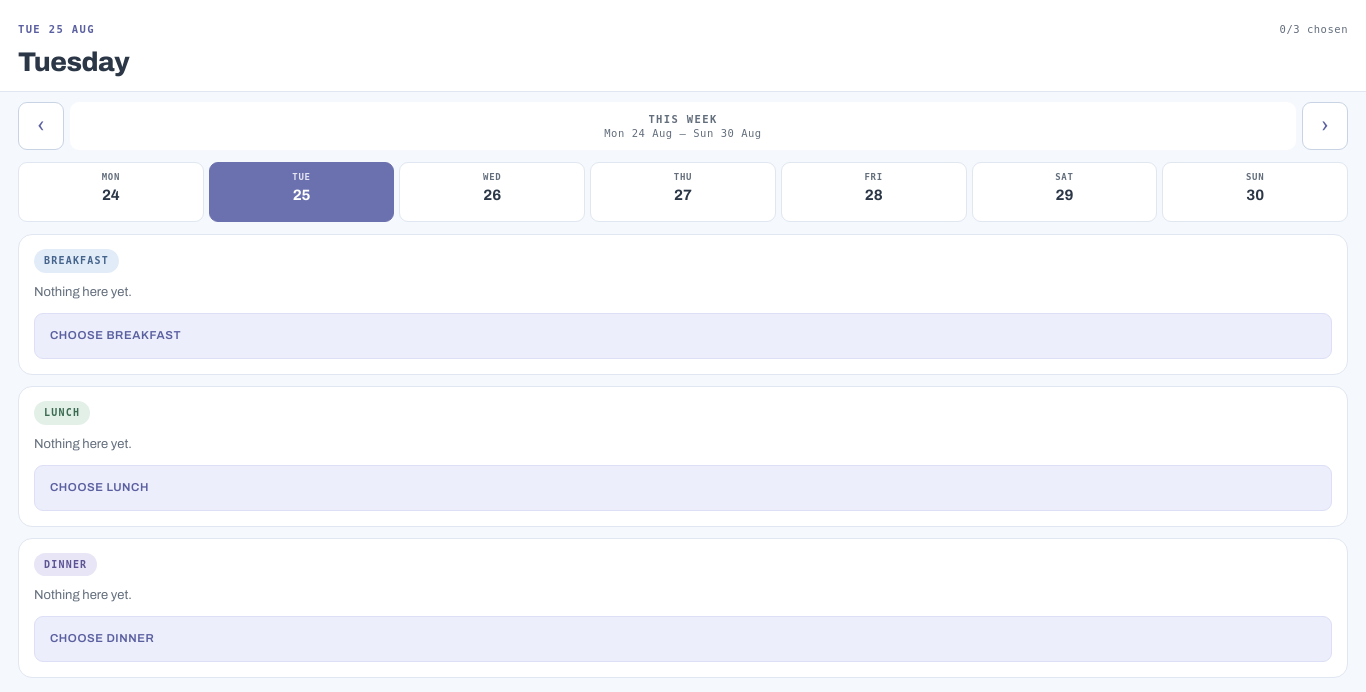
Test: Plan › puts the recipes suited to the slot first, and the rest after
Click the button "Choose breakfast" at {"x": 116, "y": 335}, box [34,313,1332,359]
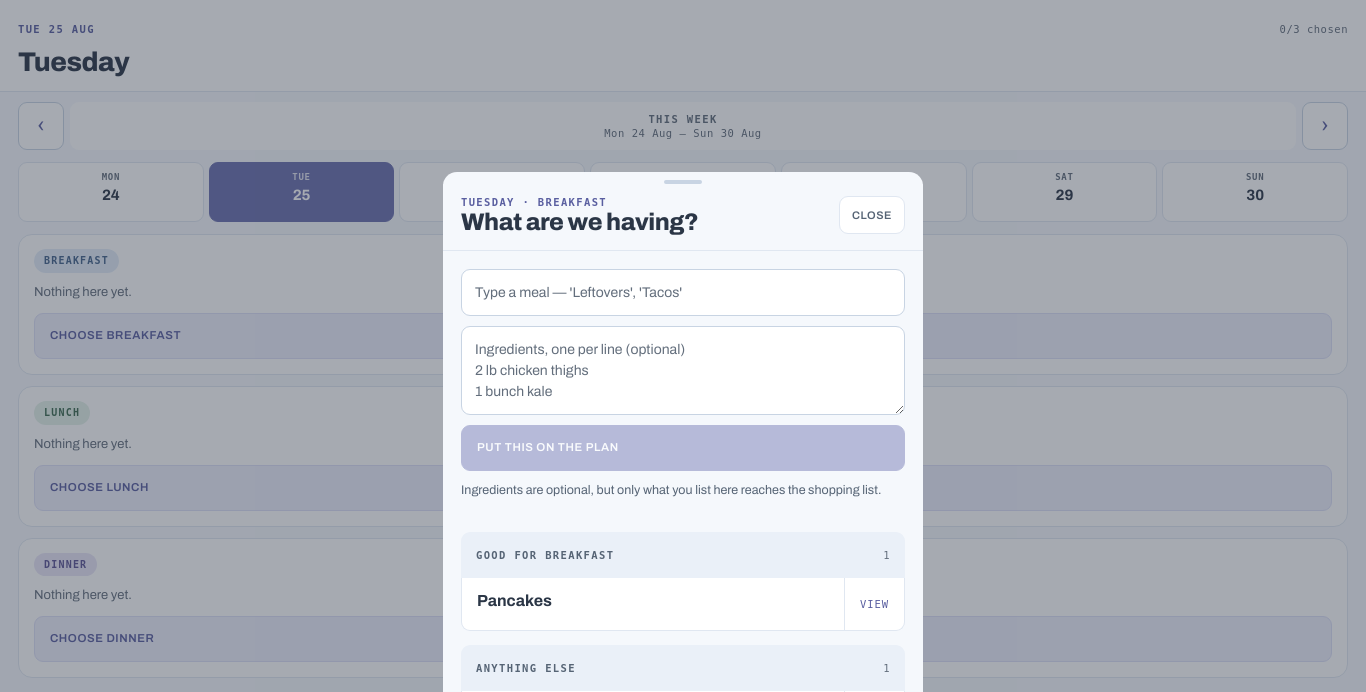
Expected: the text "Good for breakfast" is shown, [476,549,614,561]
Expected: the text "Anything else" is shown, [476,662,576,674]
